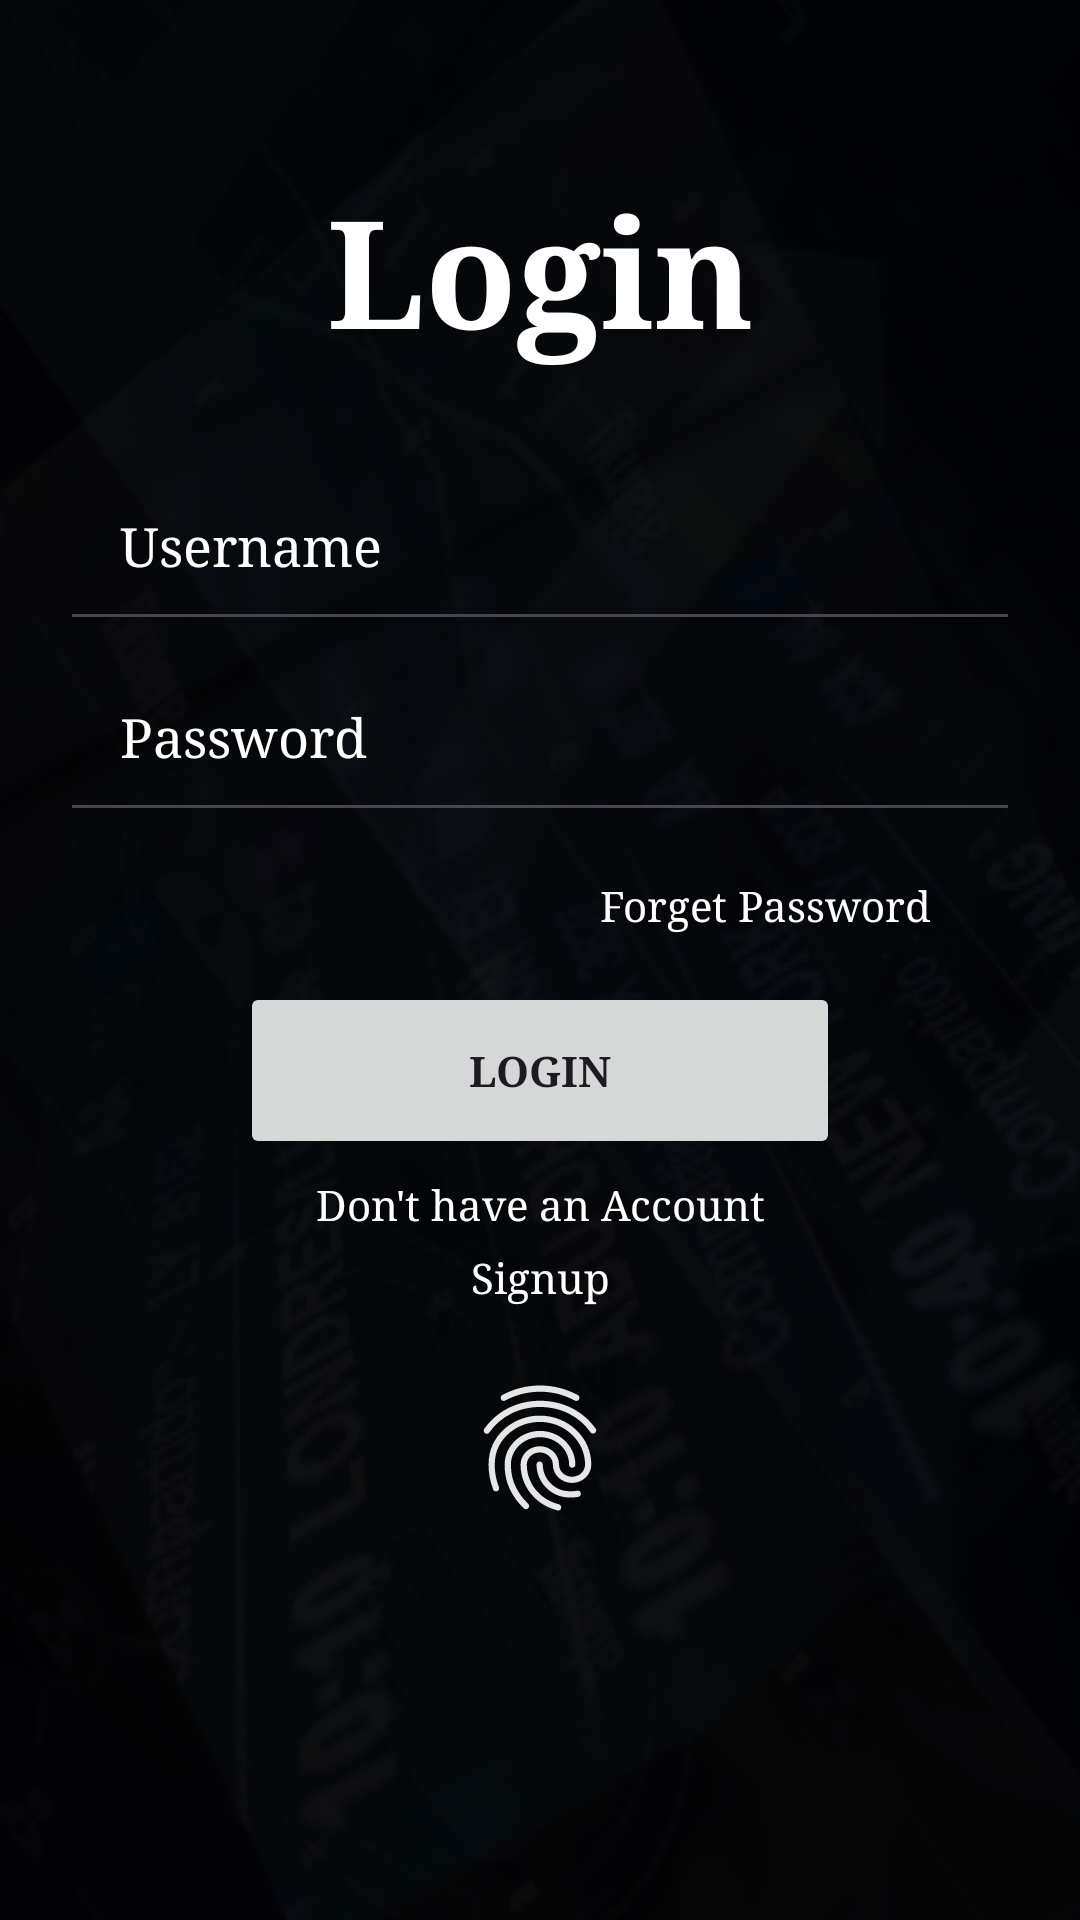

Icon bounding boxes for this 1080x1920 phone screenshot, format BBox(x1, y1, x2, y2):
fingerprint bd: BBox(483, 1385, 597, 1511)
